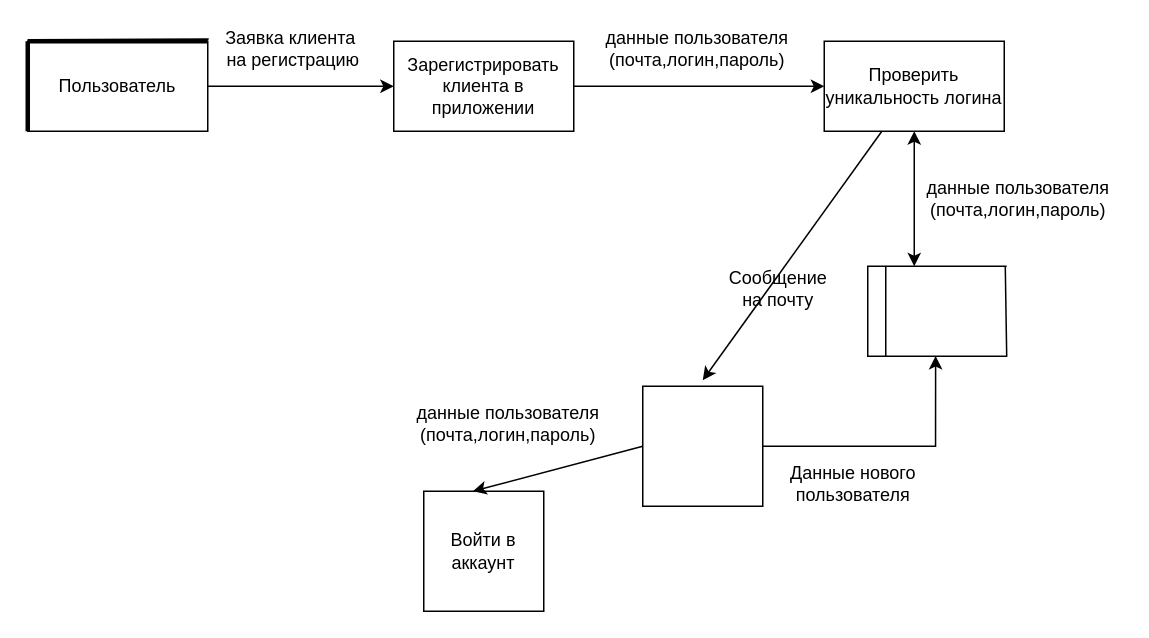
Image size: 1149x638. Some labels were removed from this diagram. The box of each missing label's shape, as (x1, y1, x2, y2) in pixels:
База данных: (866, 265, 1048, 356)
Подтвердить регистрацию: (641, 385, 763, 506)
